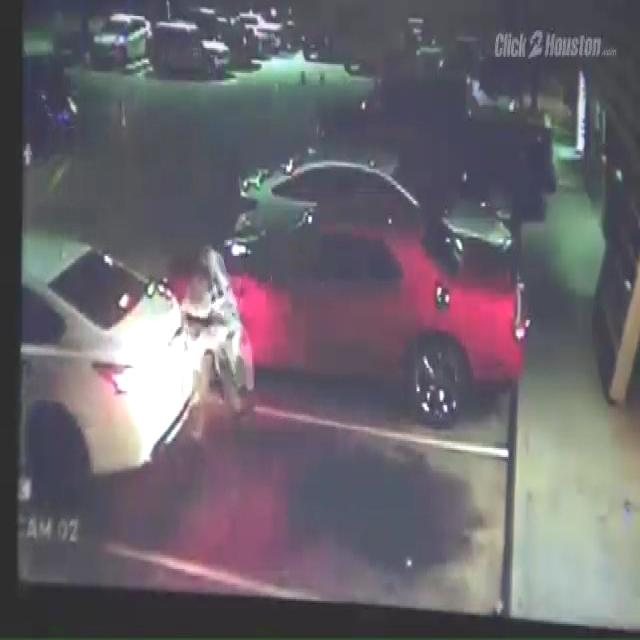fight: (173, 239, 255, 452)
